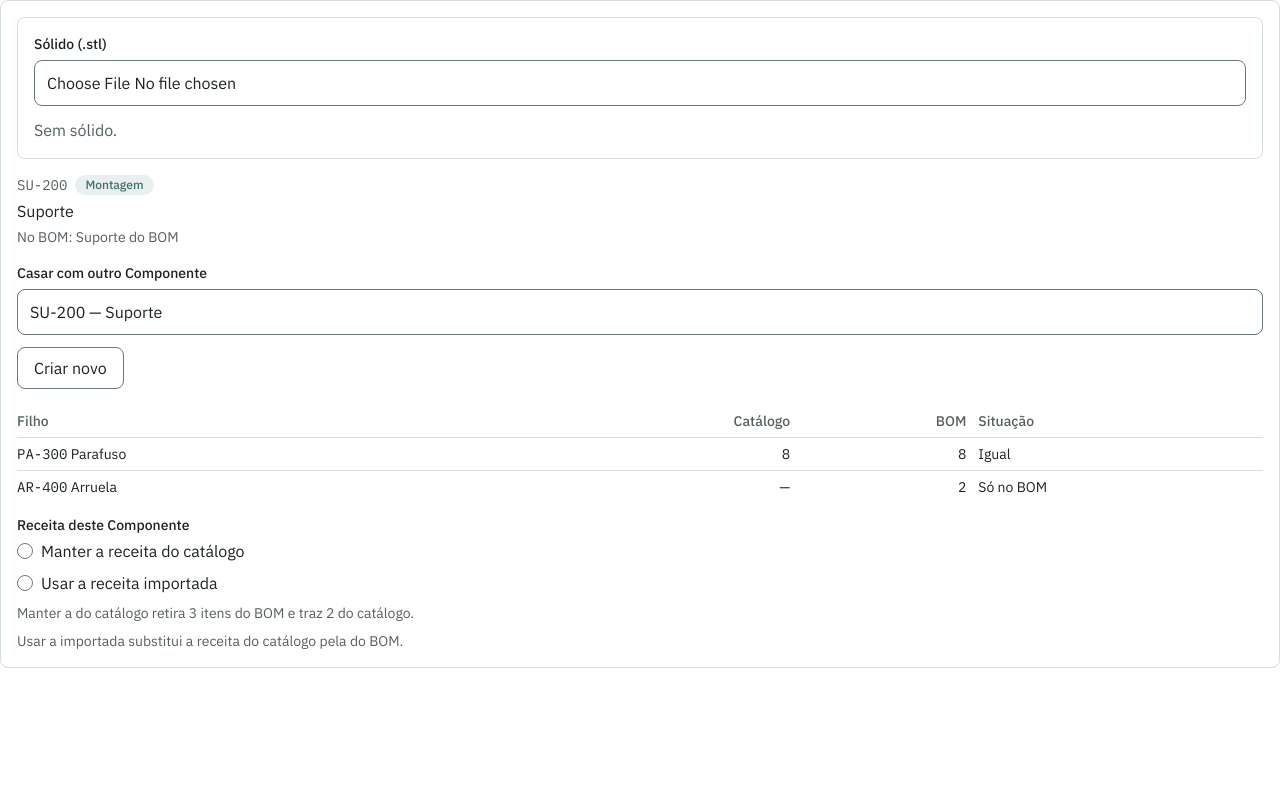
Test: PainelDoComponenteDaImportacao › casar com um Componente que outro código já casou não escreve e diz por quê no painel
Focus the dropdown labelled "Casar com outro Componente": (640, 312) [17, 289, 1263, 335]
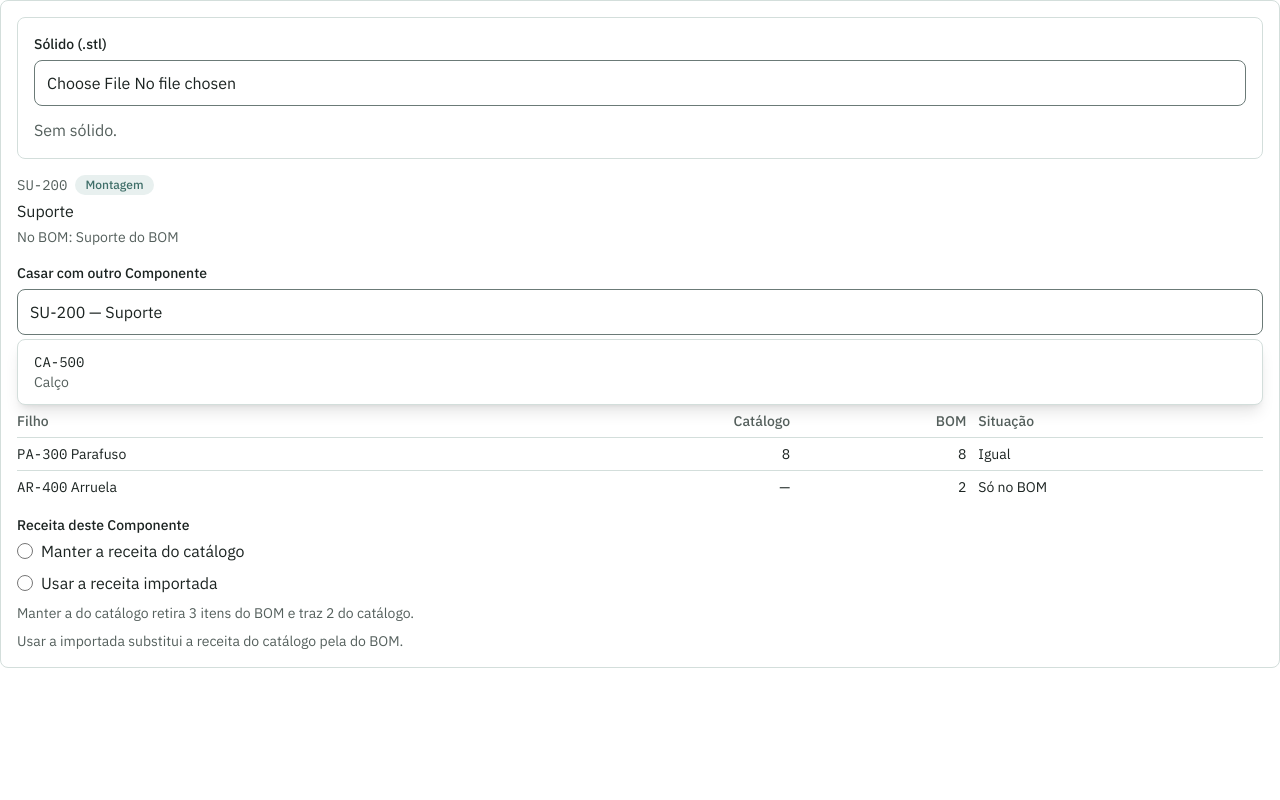
Click the option "CA-500 Calço": (59, 372) [34, 353, 84, 391]
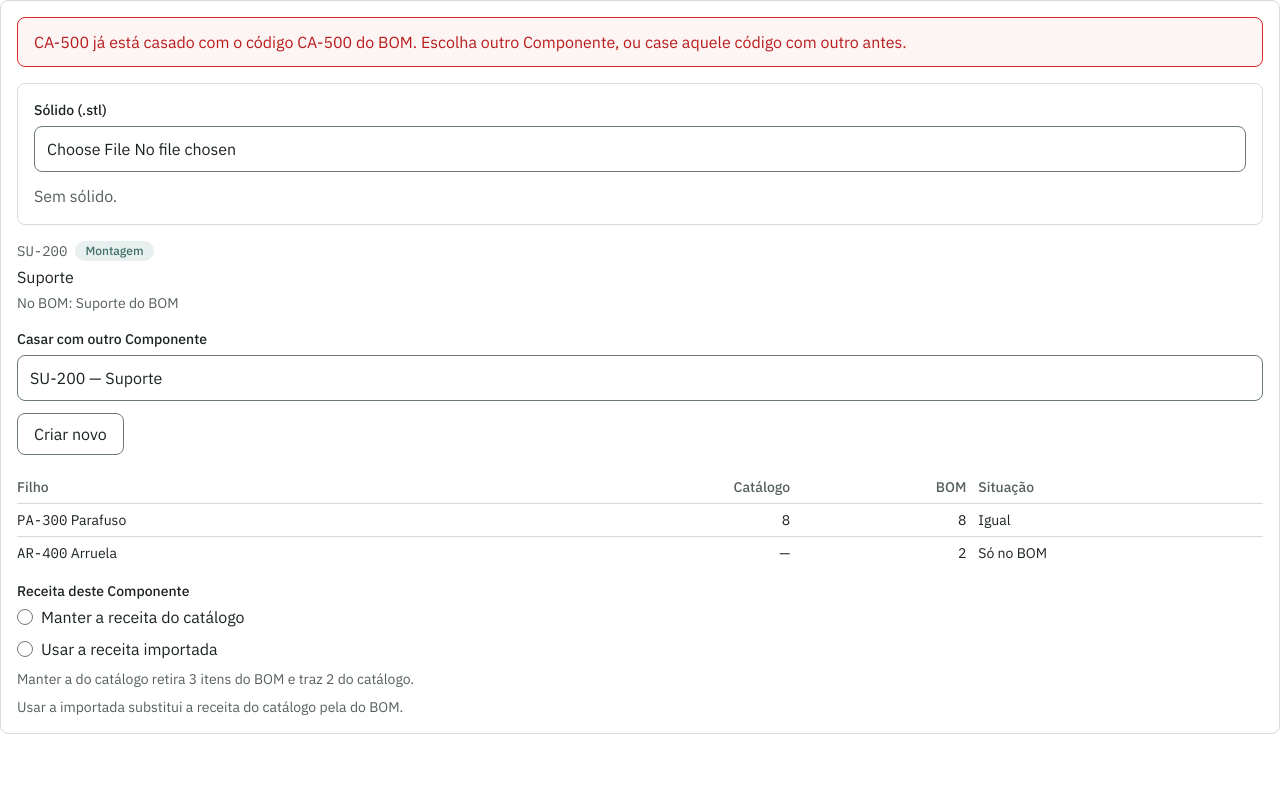
Check: the message shows "CA-500 já está casado com o código CA-500 do BOM. Escolha outro Componente, ou case aquele código com outro antes.", box [34, 32, 907, 52]
